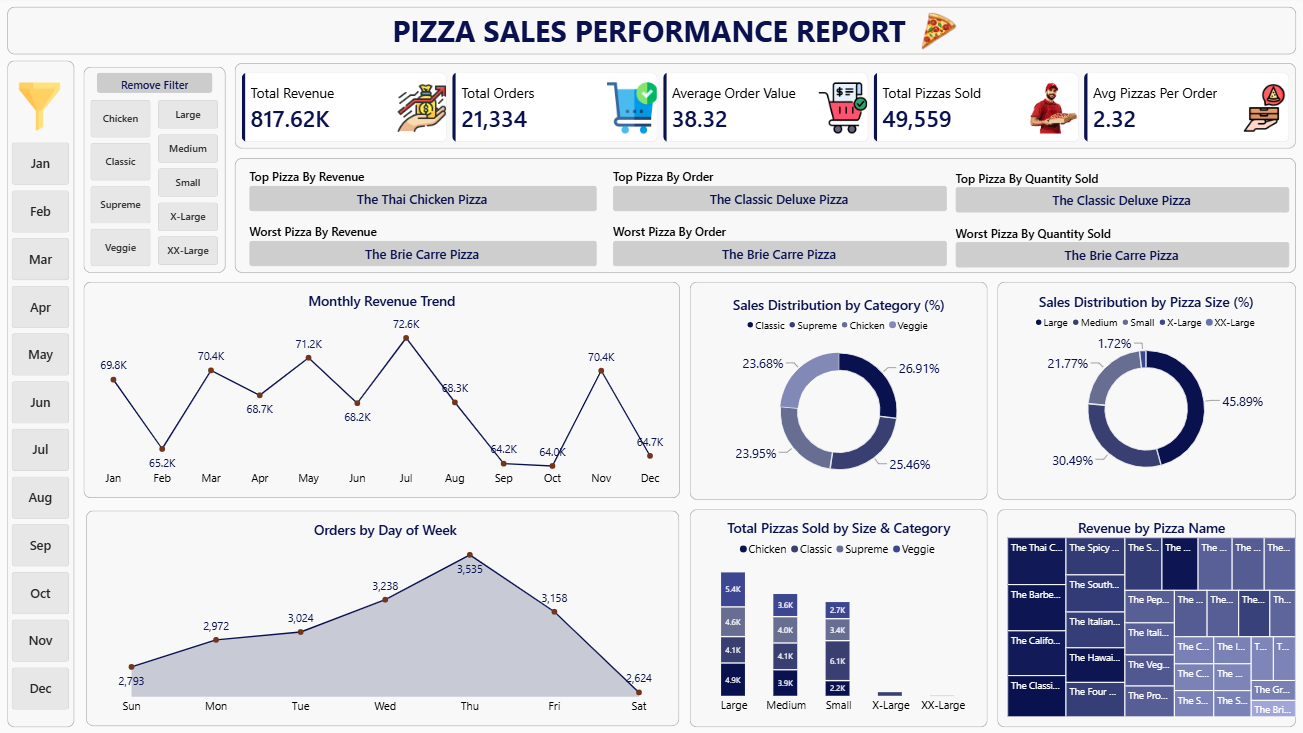

This screenshot's page, from the dashboard's own definition file:
{"tool":"powerbi","page":{"name":"DASHBOARD","canvas":[1920,1080],"ordinal":0},"visuals":[{"type":"shape","box":[12.9,10,1892.9,71.4],"z":0,"group":"g1"},{"type":"group","id":"g1","title":"Group 1","box":[12.9,10,1892.9,1058.6],"z":0},{"type":"advancedSlicerVisual","title":"Top Pizza By Revenue","fields":{"Values":["PIZZA SALES.pizza_name"]},"box":[368.6,247.6,510,62.9],"z":0,"group":"g2"},{"type":"shape","box":[13.2,88,100,980],"z":1000,"group":"g1"},{"type":"cardVisual","fields":{"Data":["PIZZA SALES.Total Revenue","PIZZA SALES.Total Orders","PIZZA SALES.Average Order Value","PIZZA SALES.Total Pizzas Sold","PIZZA SALES.Avg Pizzas Per Order"]},"box":[357.1,107.1,1537.1,102.9],"z":1000},{"type":"advancedSlicerVisual","title":"Worst Pizza By Revenue","fields":{"Values":["PIZZA SALES.pizza_name"]},"box":[368.6,329,510,62.9],"z":1000,"group":"g2"},{"type":"shape","box":[125.2,98,210,304],"z":2000,"group":"g1"},{"type":"lineChart","title":"Monthly Revenue Trend","fields":{"Category":["PIZZA SALES.Month Name"],"Y":["PIZZA SALES.Total Revenue"]},"box":[125.6,413.3,876.7,322.2],"z":2000},{"type":"shape","box":[124.2,413.3,876.7,318.9],"z":3000,"group":"g1"},{"type":"lineChart","title":"Orders by Day of Week","fields":{"Category":["PIZZA SALES.Day Name"],"Y":["PIZZA SALES.Total Orders"]},"box":[130,748,876,320],"z":3000},{"type":"donutChart","title":"Sales Distribution by Category (%)","fields":{"Category":["PIZZA SALES.pizza_category"],"Y":["PIZZA SALES.Total Revenue"]},"box":[1014.3,418.6,438.6,314.3],"z":4000},{"type":"shape","box":[129.2,750,872,318],"z":4000,"group":"g1"},{"type":"shape","box":[1014.3,414.3,438.6,321.4],"z":5000,"group":"g1"},{"type":"donutChart","title":"Sales Distribution by Pizza Size (%)","fields":{"Category":["PIZZA SALES.pizza_size"],"Y":["PIZZA SALES.Total Revenue"]},"box":[1465.7,414.3,438.6,314.3],"z":5000},{"type":"shape","box":[1465.8,414.3,440,321.4],"z":6000,"group":"g1"},{"type":"columnChart","title":"Total Pizzas Sold by Size & Category","fields":{"Category":["PIZZA SALES.pizza_size"],"Series":["PIZZA SALES.pizza_category"],"Y":["PIZZA SALES.Total Pizzas Sold"]},"box":[1014.3,747.1,438.6,321.4],"z":6000},{"type":"shape","box":[347.2,92.9,1558.6,127.1],"z":7000,"group":"g1"},{"type":"treemap","title":"Revenue by Pizza Name","fields":{"Group":["PIZZA SALES.pizza_name"],"Values":["PIZZA SALES.Total Revenue"]},"box":[1465.7,747.1,454.3,321.4],"z":7000},{"type":"shape","box":[347.2,232.9,1558.6,170],"z":8000,"group":"g1"},{"type":"advancedSlicerVisual","title":"Top Pizza By Order","fields":{"Values":["PIZZA SALES.pizza_name"]},"box":[902.9,247.8,490,62.9],"z":8000},{"type":"advancedSlicerVisual","title":"Worst Pizza By Order","fields":{"Values":["PIZZA SALES.pizza_name"]},"box":[902.9,329.2,490,62.9],"z":9000},{"type":"shape","box":[1014.3,747.1,438.6,321.4],"z":9000,"group":"g1"},{"type":"group","id":"g2","title":"Group 3","box":[368.6,247.6,510,144.3],"z":10000},{"type":"shape","box":[1465.8,747.1,440,321.4],"z":10000,"group":"g1"},{"type":"advancedSlicerVisual","title":"Top Pizza By Quantity Sold","fields":{"Values":["PIZZA SALES.pizza_name"]},"box":[1404.3,249,490,62.9],"z":11000},{"type":"advancedSlicerVisual","title":"Worst Pizza By Quantity Sold","fields":{"Values":["PIZZA SALES.pizza_name"]},"box":[1404.3,330.4,490,62.9],"z":12000},{"type":"advancedSlicerVisual","fields":{"Values":["PIZZA SALES.Month Name"]},"box":[21,210,84,842],"z":13000},{"type":"advancedSlicerVisual","fields":{"Values":["PIZZA SALES.pizza_category"]},"box":[136.5,147.5,88.5,246],"z":14000},{"type":"advancedSlicerVisual","fields":{"Values":["PIZZA SALES.pizza_size"]},"box":[235.5,147.5,88.5,246],"z":15000},{"type":"actionButton","box":[144.3,107.1,170,30],"z":15001},{"type":"image","box":[17.1,121.4,88.6,70],"z":15002},{"type":"textbox","box":[10,8,1892.9,71.4],"z":15003},{"type":"image","box":[1327.1,14.3,101.4,62.9],"z":15004}]}

Visuals, with their boxes in screenshot pixels (x1, y1, x2, y2), scaled from the page's 1920x1080 canvas onto the 1303x733 screenshot:
shape: detection(9, 7, 1293, 55)
"Group 1" group: detection(9, 7, 1293, 725)
"Top Pizza By Revenue" advancedSlicerVisual: detection(250, 168, 596, 211)
shape: detection(9, 60, 77, 725)
cardVisual - PIZZA SALES.Total Revenue x PIZZA SALES.Total Orders: detection(242, 73, 1285, 143)
"Worst Pizza By Revenue" advancedSlicerVisual: detection(250, 223, 596, 266)
shape: detection(85, 67, 227, 273)
"Monthly Revenue Trend" lineChart: detection(85, 281, 680, 499)
shape: detection(84, 281, 679, 497)
"Orders by Day of Week" lineChart: detection(88, 508, 683, 725)
"Sales Distribution by Category (%)" donutChart: detection(688, 284, 986, 497)
shape: detection(88, 509, 679, 725)
shape: detection(688, 281, 986, 499)
"Sales Distribution by Pizza Size (%)" donutChart: detection(995, 281, 1292, 495)
shape: detection(995, 281, 1293, 499)
"Total Pizzas Sold by Size & Category" columnChart: detection(688, 507, 986, 725)
shape: detection(236, 63, 1293, 149)
"Revenue by Pizza Name" treemap: detection(995, 507, 1302, 725)
shape: detection(236, 158, 1293, 273)
"Top Pizza By Order" advancedSlicerVisual: detection(613, 168, 945, 211)
"Worst Pizza By Order" advancedSlicerVisual: detection(613, 223, 945, 266)
shape: detection(688, 507, 986, 725)
"Group 3" group: detection(250, 168, 596, 266)
shape: detection(995, 507, 1293, 725)
"Top Pizza By Quantity Sold" advancedSlicerVisual: detection(953, 169, 1286, 212)
"Worst Pizza By Quantity Sold" advancedSlicerVisual: detection(953, 224, 1286, 267)
advancedSlicerVisual - PIZZA SALES.Month Name: detection(14, 143, 71, 714)
advancedSlicerVisual - PIZZA SALES.pizza_category: detection(93, 100, 153, 267)
advancedSlicerVisual - PIZZA SALES.pizza_size: detection(160, 100, 220, 267)
actionButton: detection(98, 73, 213, 93)
image: detection(12, 82, 72, 130)
textbox: detection(7, 5, 1291, 54)
image: detection(901, 10, 969, 52)
